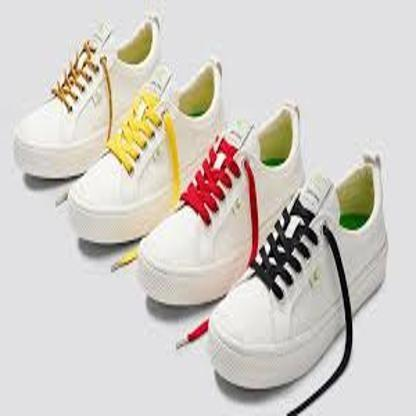not trash: (209, 158, 386, 388), (137, 102, 304, 308), (67, 56, 224, 246), (7, 10, 167, 178)
